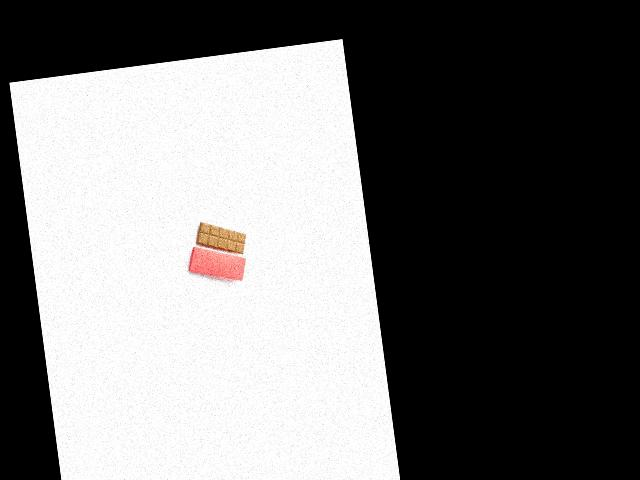chocolate: (191, 216, 249, 262)
